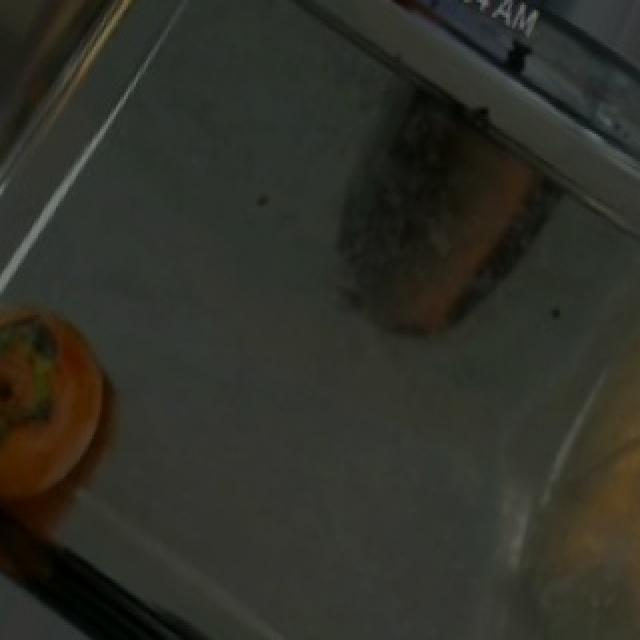Fruit: (0, 298, 138, 528)
